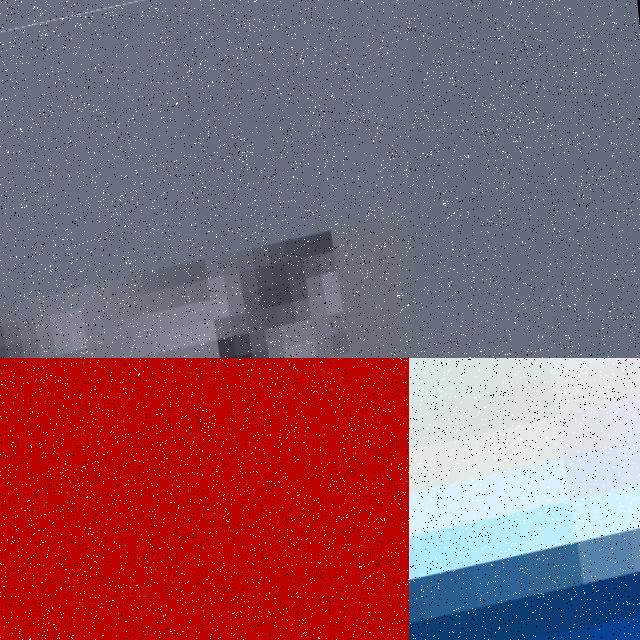drone: (0, 0, 409, 358), (0, 358, 409, 640), (409, 358, 640, 640)
